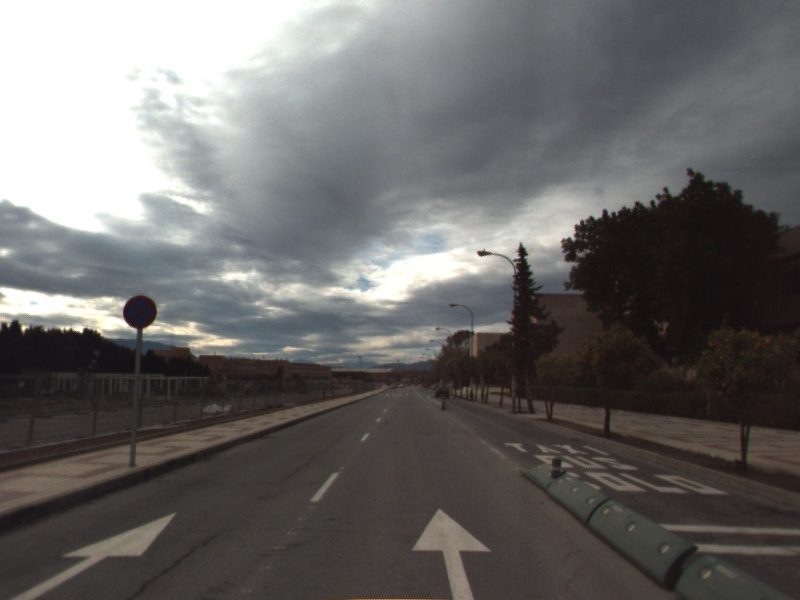STRAIGHT: (7, 507, 182, 600), (409, 506, 494, 600)
